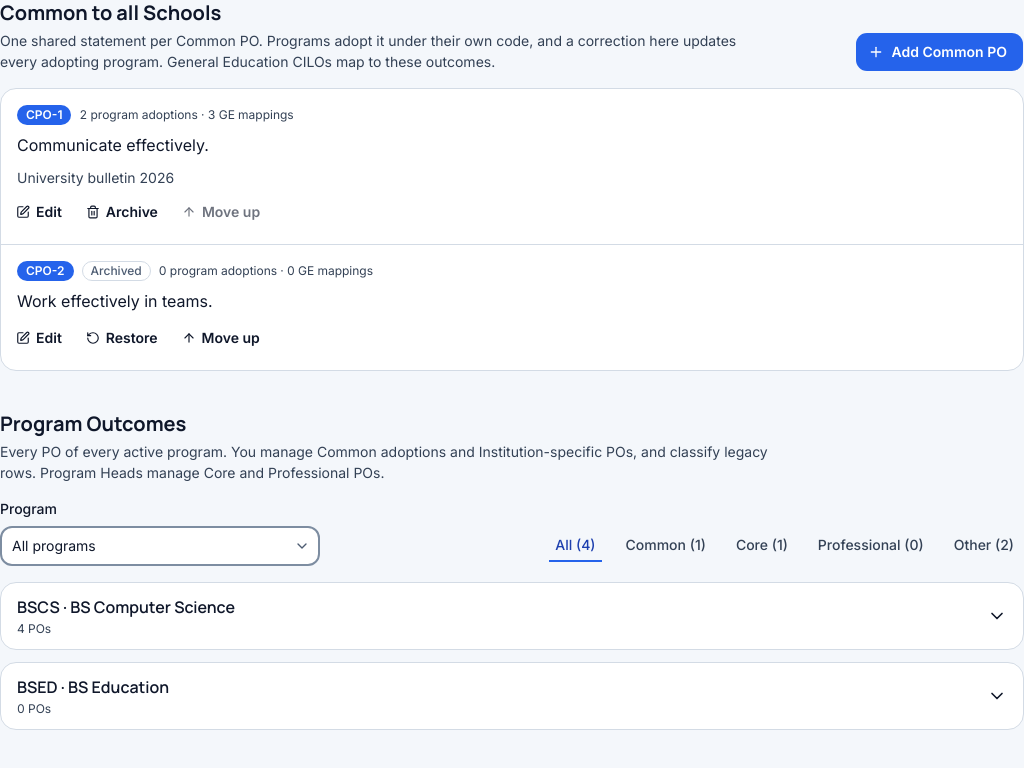
Test: CentralOutcomesCatalog › discards a review without committing when the manager goes back
Click the button "Archive" at x=125, y=212, box [79,196,171,228]
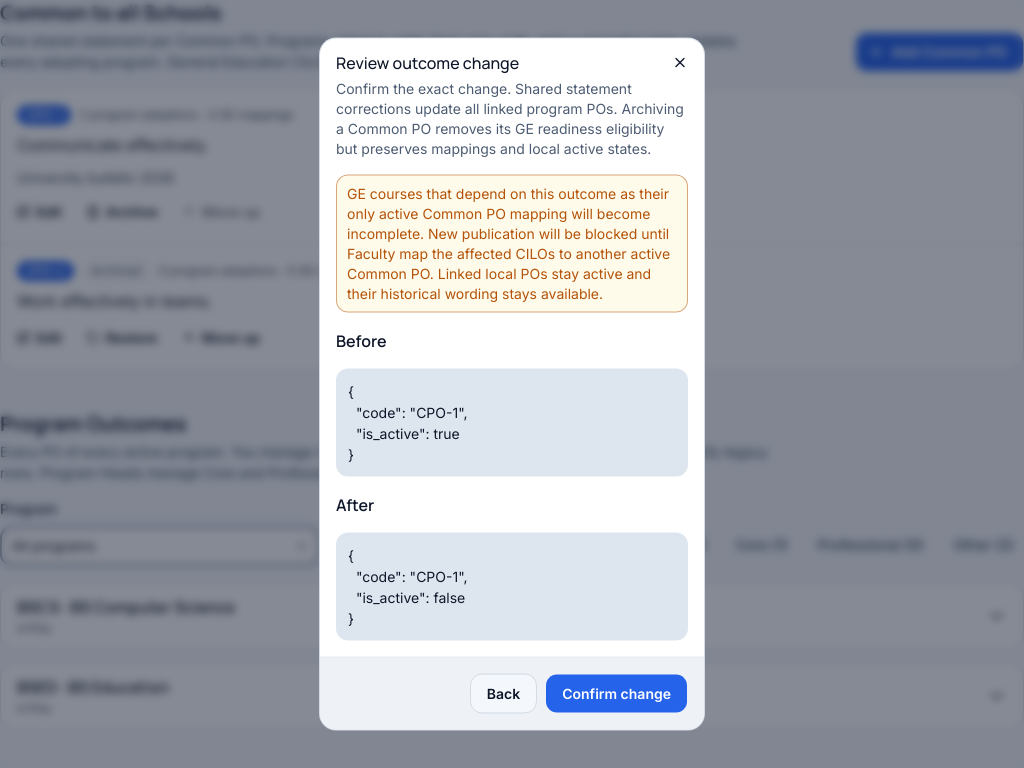
Click the button "Back" at x=504, y=694, box [470,674,537,714]
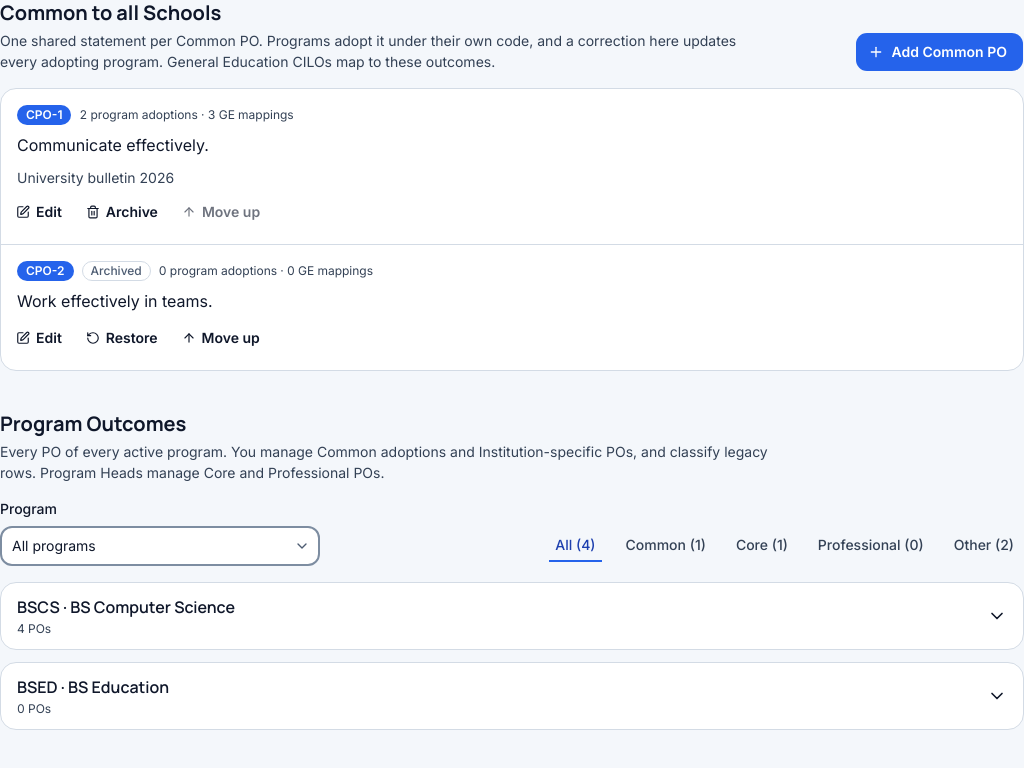
Expected: the button "Confirm change" is gone
